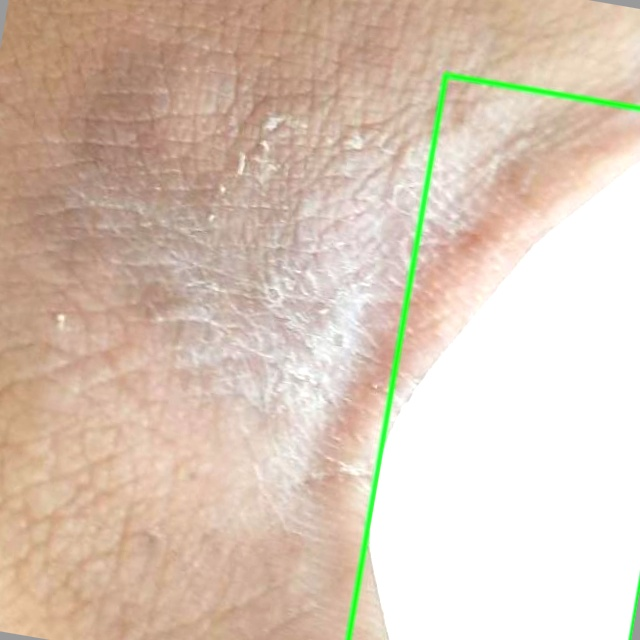Scabies: (348, 75, 639, 639)
